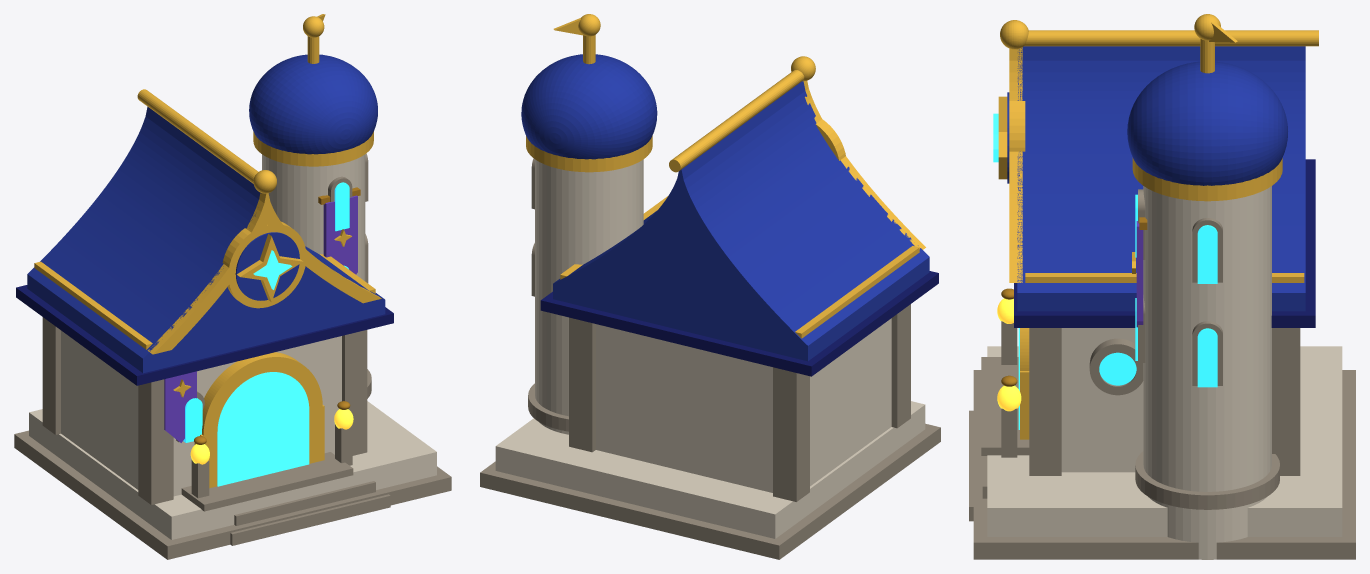
The model's file is maison_aventuriers.glb.
The picture shows the model from 3 angles, left to right: view 1: azimuth 30°, elevation 25°; view 2: azimuth 150°, elevation 25°; view 3: azimuth 270°, elevation 25°; orthographic projection. The views are drawn at different scales.
Parts seen in each view (by area): view 1: Toit, Pierre, PierreSombre, OrDetail, Portail, ToitSombre, Violet, FenetresTour, Lanternes, GemmeCyan; view 2: Toit, Pierre, PierreSombre, OrDetail, ToitSombre; view 3: Pierre, Toit, PierreSombre, OrDetail, ToitSombre, FenetresTour, Lanternes, Violet.
Boxes of the visible parts, left/top/right/bottom form: Toit: left=27, top=54, right=385, bottom=373; Pierre: left=29, top=154, right=436, bottom=539; PierreSombre: left=14, top=153, right=451, bottom=559; OrDetail: left=34, top=16, right=381, bottom=488; Portail: left=217, top=372, right=309, bottom=486; ToitSombre: left=16, top=285, right=393, bottom=385; Violet: left=164, top=195, right=357, bottom=442; FenetresTour: left=183, top=182, right=349, bottom=442; Lanternes: left=190, top=409, right=353, bottom=464; GemmeCyan: left=253, top=250, right=292, bottom=289; Toit: left=521, top=54, right=929, bottom=361; Pierre: left=495, top=159, right=925, bottom=538; PierreSombre: left=480, top=158, right=940, bottom=559; OrDetail: left=526, top=14, right=925, bottom=338; ToitSombre: left=540, top=271, right=938, bottom=376; Pierre: left=987, top=186, right=1342, bottom=559; Toit: left=1007, top=46, right=1305, bottom=311; PierreSombre: left=969, top=189, right=1355, bottom=559; OrDetail: left=998, top=14, right=1318, bottom=439; ToitSombre: left=1014, top=159, right=1315, bottom=327; FenetresTour: left=1099, top=194, right=1217, bottom=387; Lanternes: left=997, top=298, right=1021, bottom=411; Violet: left=1136, top=221, right=1143, bottom=327.
Bounding box in the file's own units: 3.33 × 4.26 × 2.88.
